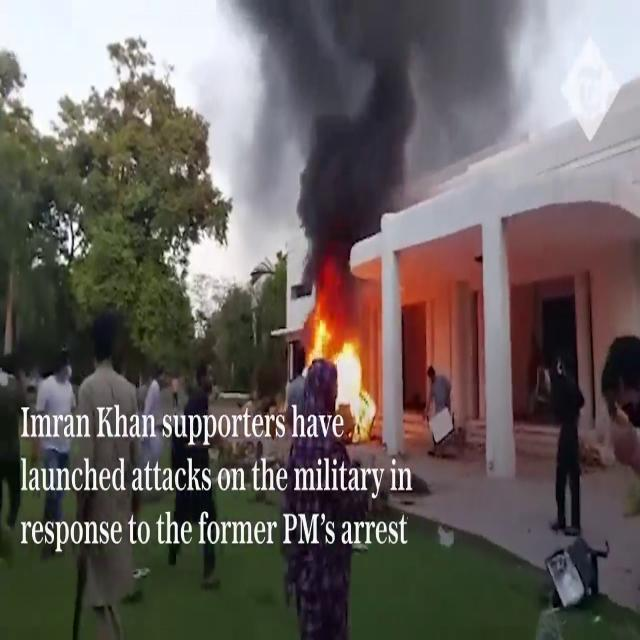Fire: (302, 296, 380, 438), (302, 298, 348, 368)
Smoke: (232, 1, 524, 268)
